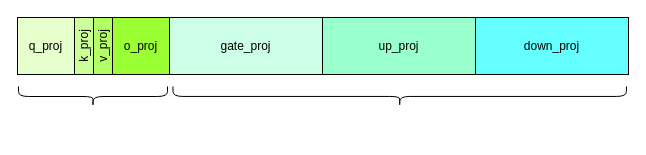
Some shapes in this 646 by 155 pixel diagram are drawn without their labels. The shapes that lost their labels are listed below. From the top down, each one's centre as x and y in pixels, then its label:
point 93,96: Attention
point 399,96: FFN
